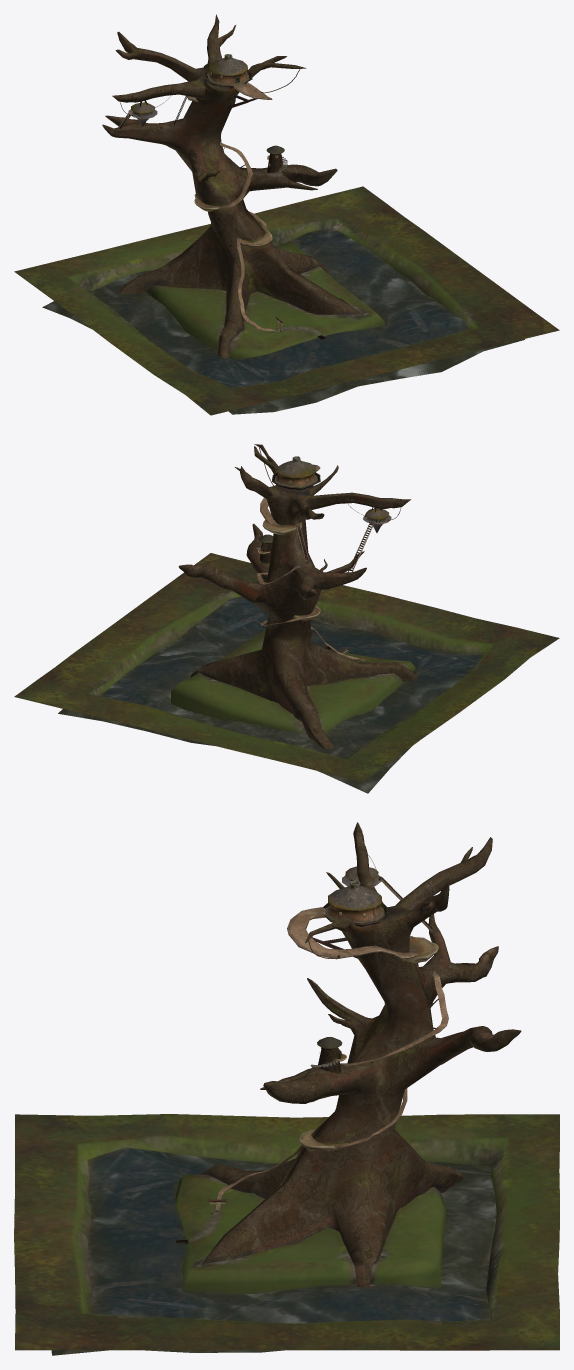
Rendered from colonnier.glb.
3 views of the same model, one above another, from view 1: azimuth 30°, elevation 25°; view 2: azimuth 150°, elevation 25°; view 3: azimuth 270°, elevation 25° (orthographic). The views are drawn at different scales.
Parts seen in each view (by area): view 1: Object_3, Object_2; view 2: Object_3, Object_2; view 3: Object_3, Object_2.
Boxes of the visible parts, <box> form: Object_3: <box>14,54,559,415</box>; Object_2: <box>102,14,361,357</box>; Object_3: <box>14,447,559,793</box>; Object_2: <box>178,444,417,748</box>; Object_3: <box>14,854,559,1355</box>; Object_2: <box>201,822,521,1287</box>.
Bounding box in the file's own units: 165 × 128 × 160.
2 materials, 2 textured.
